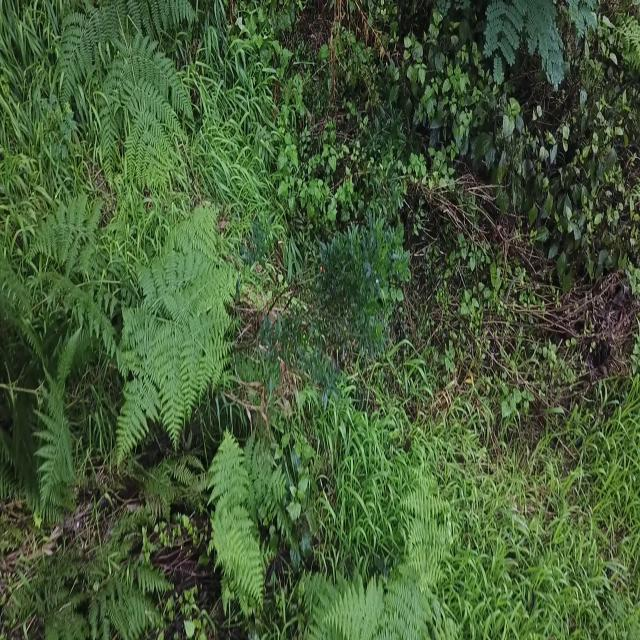Mysore-Thorn-Weed: (471, 0, 606, 77)
